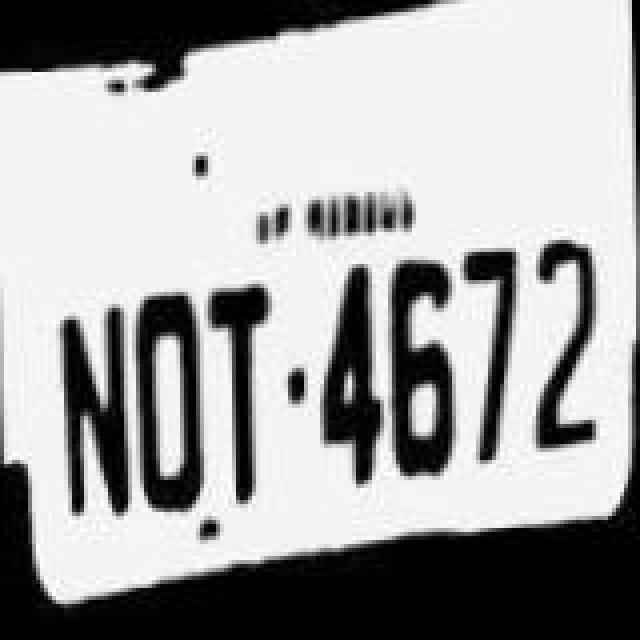2: (522, 228, 606, 460)
4: (314, 252, 390, 492)
6: (384, 248, 464, 484)
7: (456, 234, 528, 470)
N: (46, 286, 138, 530)
O: (128, 276, 208, 520)
T: (202, 268, 278, 508)
